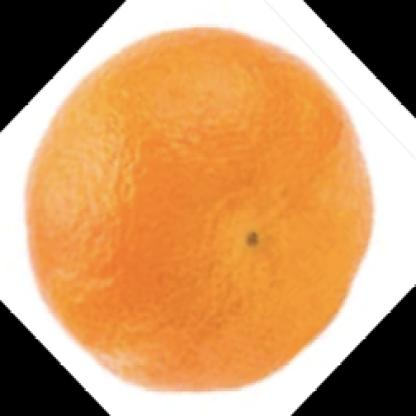fresh: (22, 28, 375, 394)
